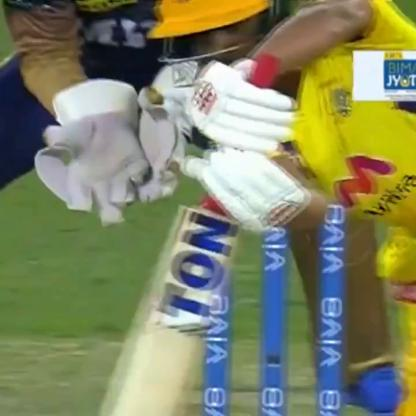bat: (99, 152, 250, 410)
